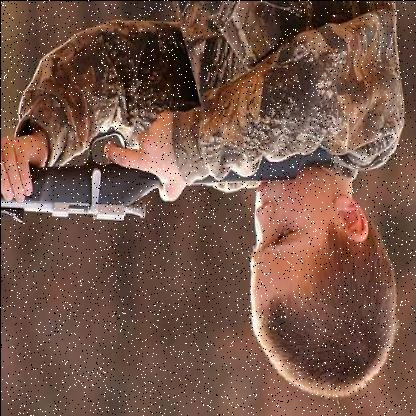rifle: (1, 119, 344, 237)
